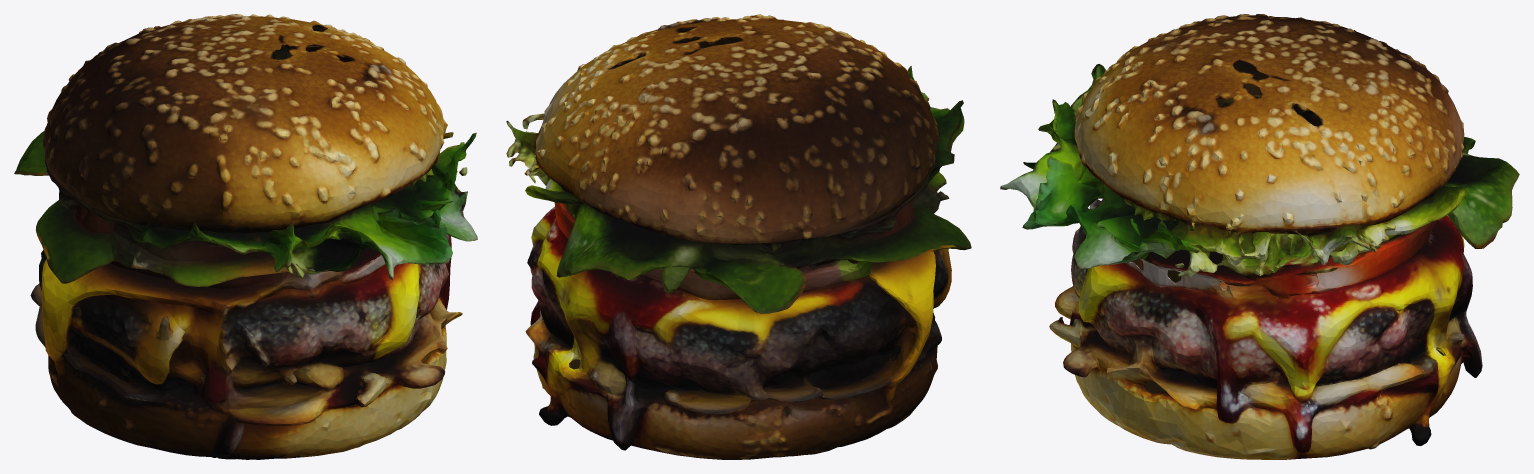
File: hamburger2.glb
3 views of the same model, side by side, from view 1: azimuth 30°, elevation 25°; view 2: azimuth 150°, elevation 25°; view 3: azimuth 270°, elevation 25° (orthographic). The views are drawn at different scales.
Parts seen in each view (by area): view 1: world; view 2: world; view 3: world.
Boxes of the visible parts, x1=… form: world: x1=14, y1=14, x2=477, y2=459; world: x1=506, y1=14, x2=971, y2=459; world: x1=1000, y1=14, x2=1519, y2=459.
Size of the model in its own units: 0.837 by 0.6824 by 0.9452.
Materials: 1 (1 with a texture image).
